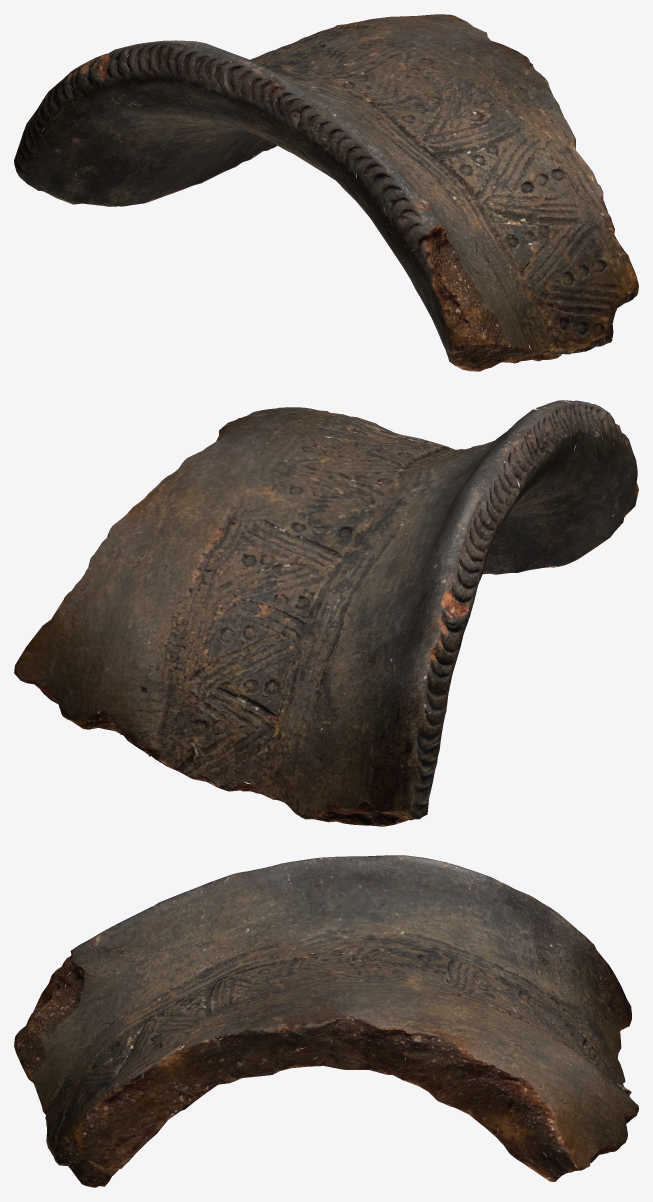
Rendered from piece2_10000_resHi.glb.
3 renders of one model, top to bottom at view 1: azimuth 30°, elevation 25°; view 2: azimuth 150°, elevation 25°; view 3: azimuth 270°, elevation 25°, orthographic. The views are drawn at different scales.
Bounding box in the file's own units: 0.1314 × 0.0773 × 0.1947.
Materials: 1 (1 with a texture image).
